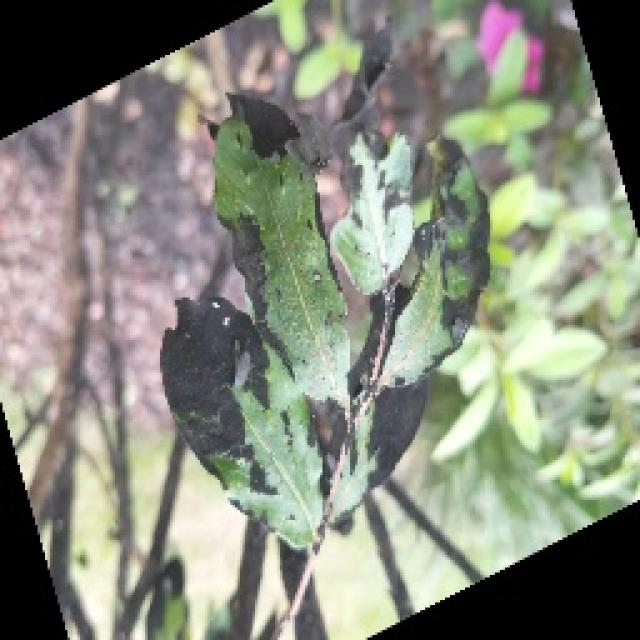Sooty Mold: (193, 62, 471, 543)
